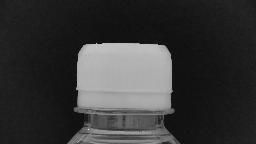Broken Cap: (70, 41, 178, 117)
